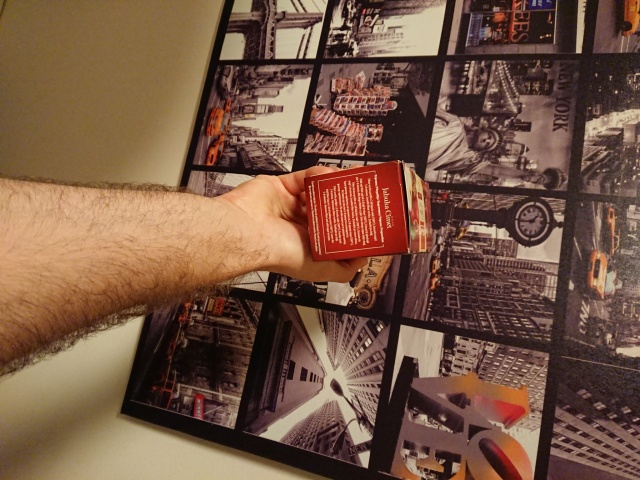Franck Apple Cinnamon Tea 60g: (300, 156, 435, 265)
